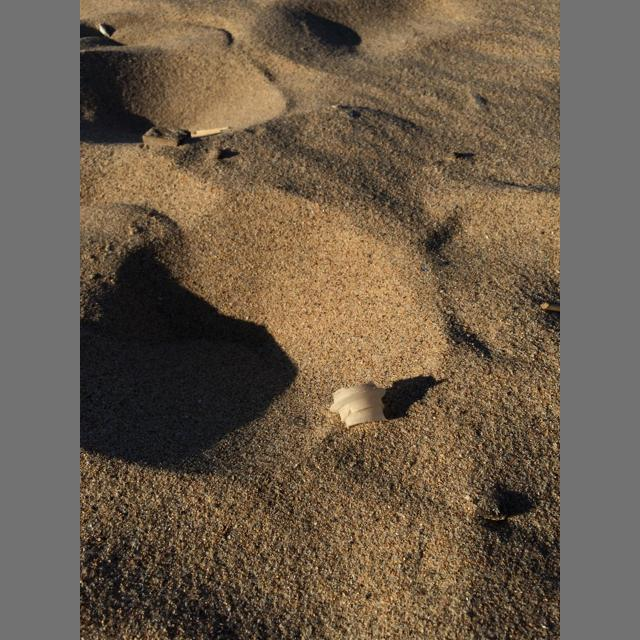litter: (330, 381, 389, 427)
